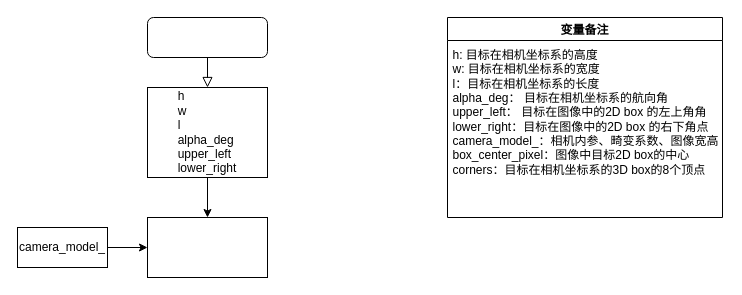
This 742x295 diagram has some shape labels left out. The shapes that lost their labels are listed below. From the top down, each one's centre as x and y in pixels, then its label:
(207,37): Deep Network
(207,247): 1.box_center_pixel 2.corners
